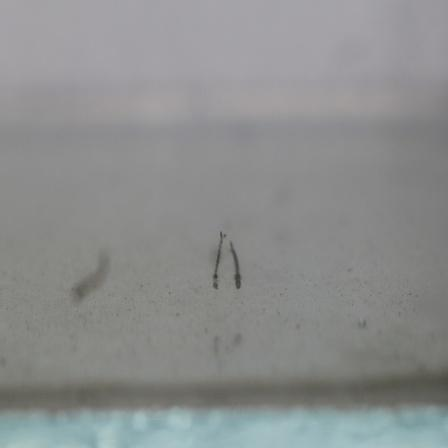Jentik-Nyamuk: (210, 225, 244, 295)
